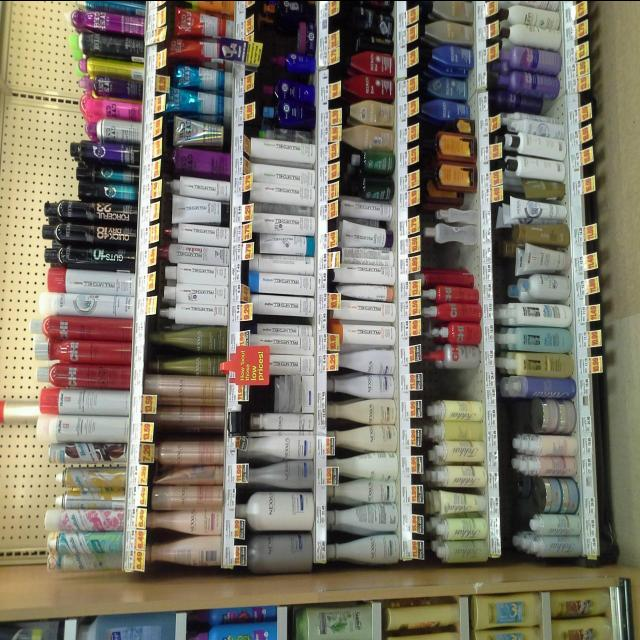empty_space: (433, 371, 479, 401), (435, 248, 475, 267)
